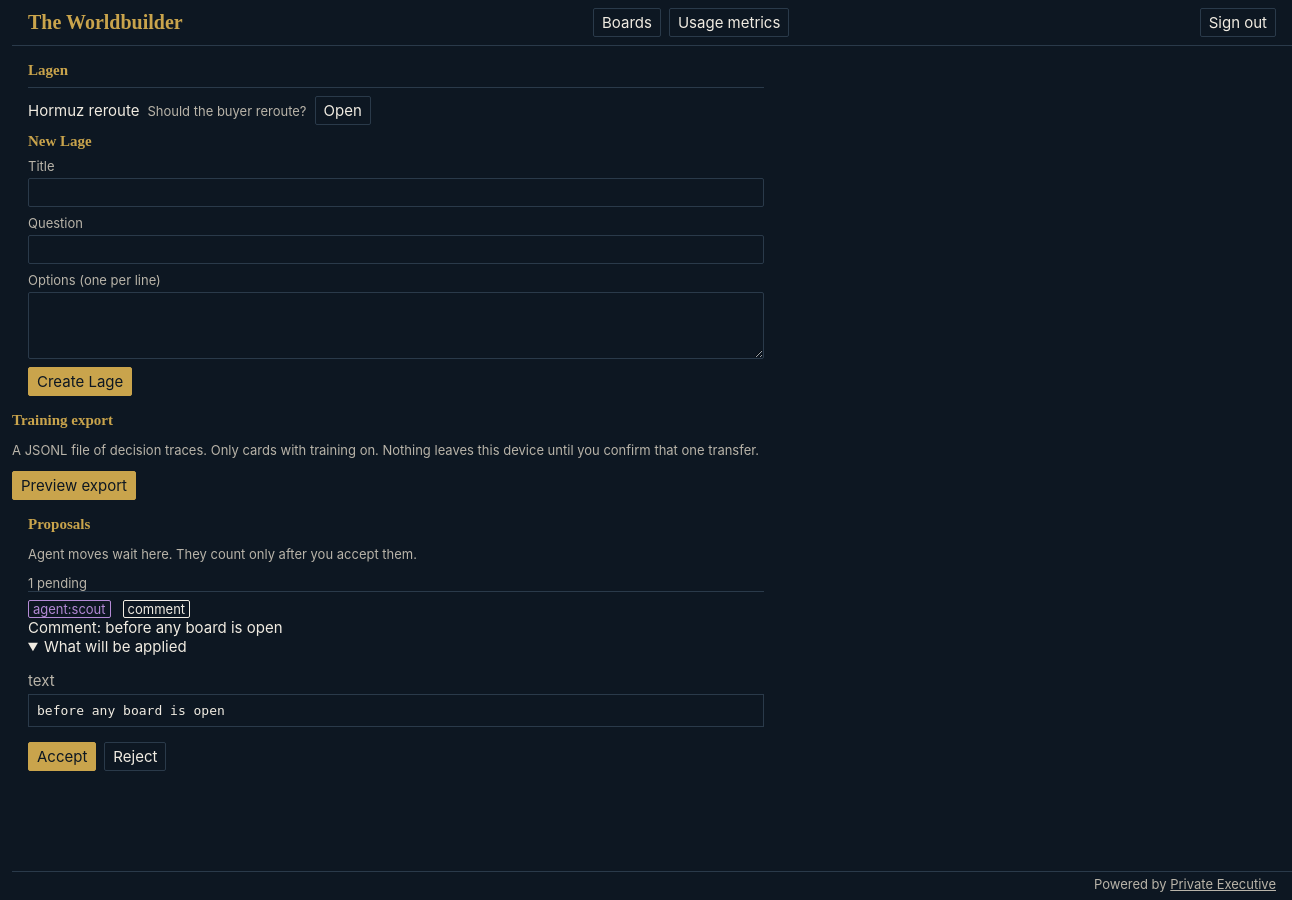
it: global proposals › is also on the Lagen screen, where an unplaced proposal can be decided
Click the button "Reject" at [135, 756], box [104,742,166,771]
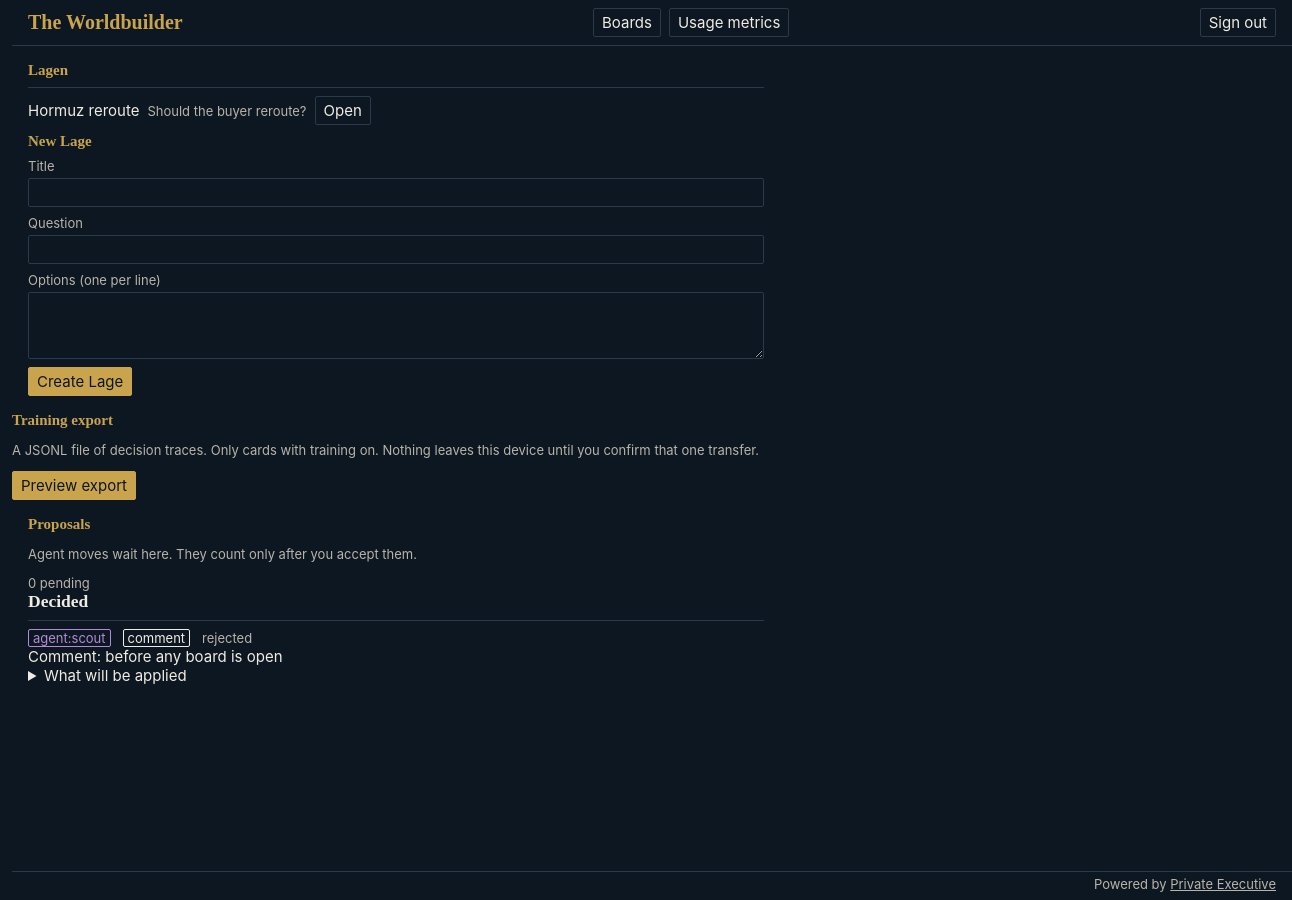
Expected: the text "rejected" is shown, [202,630,252,646]
